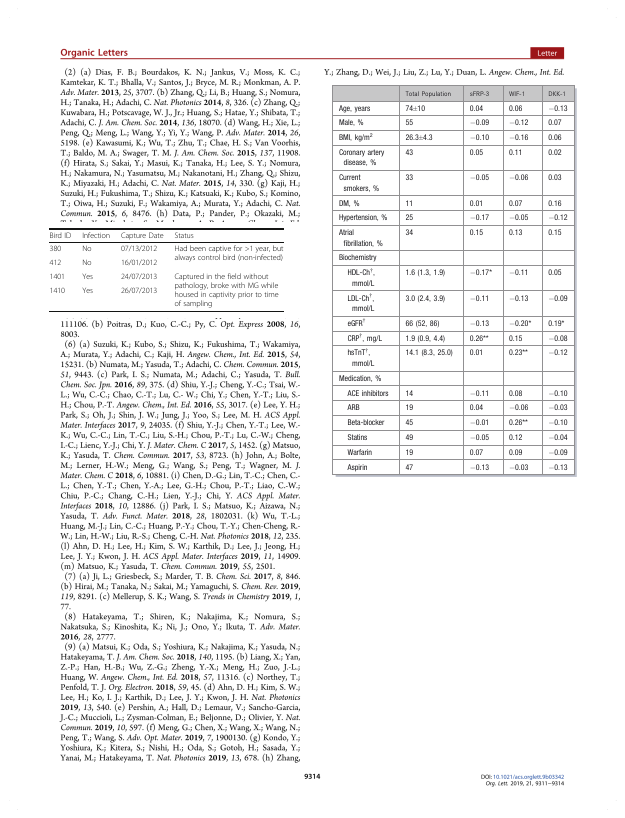bordered: (332, 83, 574, 474)
borderless: (49, 227, 284, 311)
cell: (173, 272, 279, 309), (173, 244, 284, 263), (337, 149, 385, 168), (337, 229, 383, 248), (337, 174, 380, 194), (346, 267, 375, 289), (346, 293, 375, 314), (346, 348, 375, 369), (337, 214, 388, 223), (404, 349, 453, 358), (337, 374, 382, 383), (337, 132, 373, 143), (120, 231, 164, 240), (346, 389, 389, 398), (120, 244, 158, 254), (120, 258, 158, 268), (120, 272, 158, 282), (120, 286, 158, 296), (404, 269, 446, 278), (404, 294, 446, 303), (404, 334, 446, 343), (404, 91, 451, 99), (337, 254, 377, 263), (404, 319, 440, 329), (346, 333, 382, 343), (346, 419, 385, 428), (337, 104, 371, 113), (81, 231, 111, 240), (404, 134, 433, 143), (507, 319, 532, 329), (337, 119, 364, 128), (346, 448, 373, 457), (346, 318, 366, 329), (468, 319, 490, 329), (346, 433, 368, 443), (468, 433, 490, 443), (468, 269, 492, 278), (547, 433, 568, 443), (337, 199, 360, 208), (49, 231, 72, 240), (404, 104, 426, 113), (468, 119, 490, 128), (507, 119, 529, 128), (468, 134, 490, 143), (507, 134, 529, 143), (468, 174, 490, 183), (507, 174, 529, 183), (468, 214, 490, 223), (507, 214, 529, 223), (507, 269, 529, 278), (468, 294, 490, 303), (507, 294, 529, 303), (468, 389, 490, 398), (507, 404, 529, 413), (468, 419, 490, 428), (346, 463, 368, 472), (468, 463, 490, 472), (507, 463, 529, 472), (173, 231, 195, 240), (547, 104, 568, 113), (547, 214, 568, 223), (547, 294, 568, 303), (468, 334, 489, 343), (547, 334, 568, 343), (507, 349, 528, 358), (547, 349, 568, 358), (547, 389, 568, 398), (547, 404, 568, 413), (507, 419, 528, 428), (547, 419, 568, 428), (547, 448, 568, 457), (547, 463, 568, 472), (547, 319, 565, 329), (468, 91, 490, 99), (49, 272, 66, 282), (49, 286, 66, 296), (507, 433, 523, 443), (547, 91, 566, 99), (507, 91, 525, 99), (468, 104, 484, 113), (507, 104, 523, 113), (468, 149, 484, 158), (507, 149, 523, 158), (468, 199, 484, 208), (507, 199, 523, 208), (468, 229, 484, 238), (507, 229, 523, 238), (507, 334, 523, 343), (468, 349, 484, 358), (507, 389, 523, 398), (468, 404, 484, 413), (468, 448, 484, 457), (507, 448, 523, 457), (547, 119, 562, 128), (547, 134, 562, 143), (547, 149, 562, 158), (547, 174, 562, 183), (547, 199, 562, 208), (547, 229, 562, 238), (547, 269, 562, 278), (49, 244, 62, 254), (49, 258, 62, 268), (81, 272, 94, 282), (81, 286, 94, 296), (346, 404, 360, 413), (81, 244, 92, 254), (81, 258, 92, 268), (404, 433, 414, 443), (404, 119, 414, 128), (404, 149, 414, 158), (404, 174, 414, 183), (404, 199, 414, 208), (404, 214, 414, 223), (404, 229, 414, 238), (404, 389, 414, 398), (404, 404, 414, 413), (404, 419, 414, 428), (404, 448, 414, 457), (404, 463, 414, 472)
